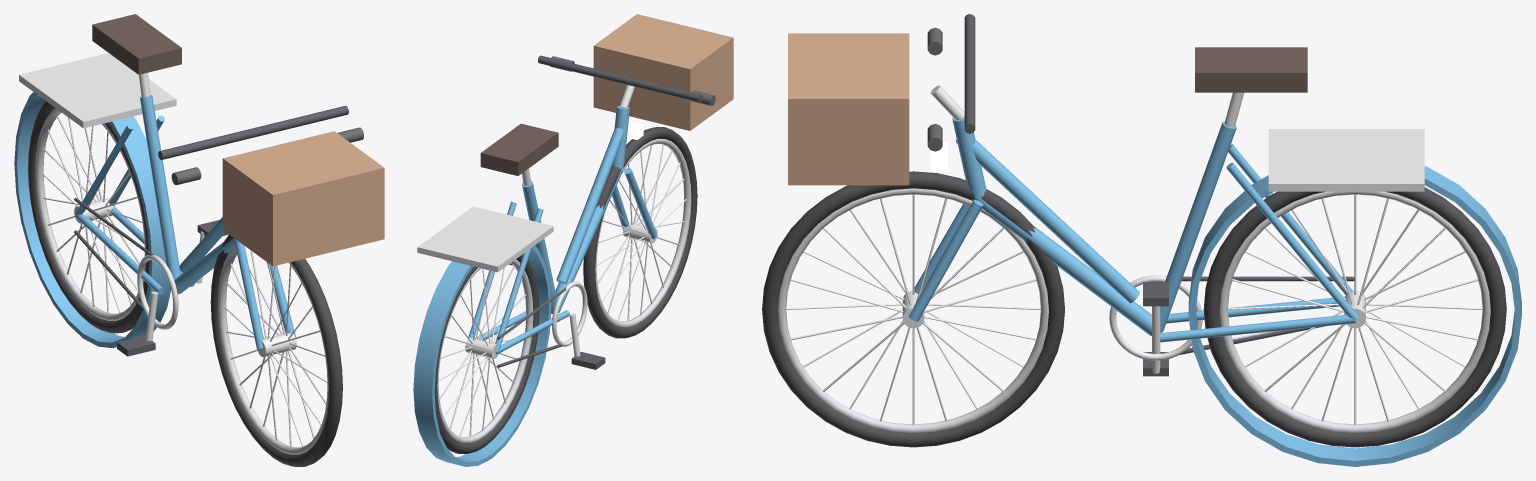
File: bike-city.glb
3 views of the same model, side by side, from view 1: azimuth 30°, elevation 25°; view 2: azimuth 150°, elevation 25°; view 3: azimuth 270°, elevation 25° (orthographic). The views are drawn at different scales.
Parts seen in each view (by area): view 1: bike-city; view 2: bike-city; view 3: bike-city.
Boxes of the visible parts, x1=… form: bike-city: x1=14, y1=14, x2=384, y2=466; bike-city: x1=413, y1=14, x2=733, y2=466; bike-city: x1=762, y1=14, x2=1521, y2=466.
Size of the model in its own units: 0.5999 by 1.02 by 1.75.
